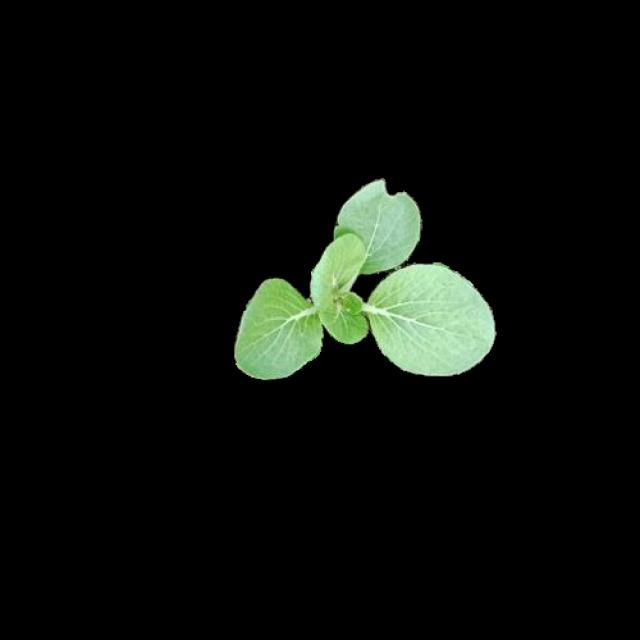not-mature: (232, 174, 500, 379)
unhealthy: (338, 178, 421, 260)
